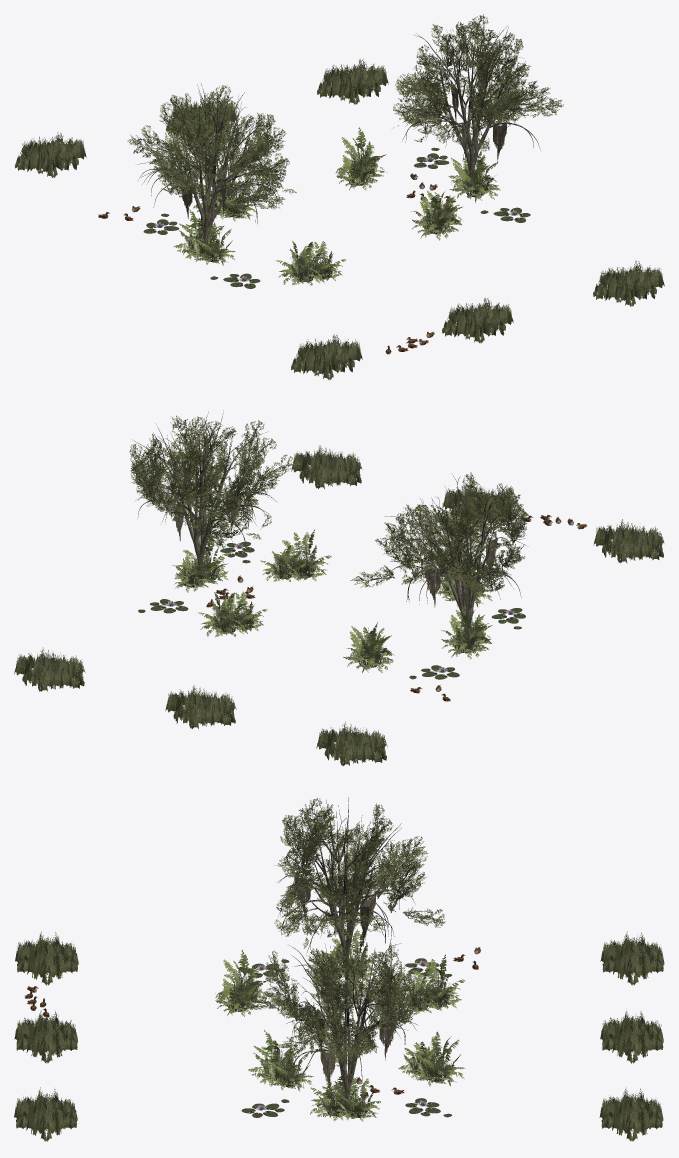
File: duck_plants.glb
The picture shows the model from 3 angles, top to bottom: view 1: azimuth 30°, elevation 25°; view 2: azimuth 150°, elevation 25°; view 3: azimuth 270°, elevation 25°; orthographic projection. The views are drawn at different scales.
Visible parts, largest first — view 1: prop_static_18757.003, prop_static_18757.002, prop_static_63605.001, prop_static_63605.002, sapling2, sapling1, Reeds.003, Reeds.001, Reeds.002, Reeds.004, Reeds, Reeds.005; view 2: prop_static_18757.002, prop_static_18757.003, prop_static_63605.002, prop_static_63605.001, sapling1, sapling2, Reeds.004, Reeds.001, Reeds, Reeds.005, Reeds.002; view 3: prop_static_18757.003, prop_static_18757.002, prop_static_63605.002, prop_static_63605.001, sapling1, sapling2, Reeds, Reeds.001, Reeds.004, Reeds.005, Reeds.003, Reeds.002.
Part boxes in pixels (box(x1,y1,x2,y2)): prop_static_18757.003: box(127, 85, 296, 209); prop_static_18757.002: box(393, 15, 563, 151); prop_static_63605.001: box(291, 260, 664, 380); prop_static_63605.002: box(14, 59, 388, 177); sapling2: box(399, 14, 544, 190); sapling1: box(137, 83, 279, 252); Reeds.003: box(275, 240, 346, 285); Reeds.001: box(335, 127, 387, 190); Reeds.002: box(173, 208, 235, 265); Reeds.004: box(411, 190, 462, 240); Reeds: box(448, 150, 500, 202); Reeds.005: box(193, 172, 256, 221); prop_static_18757.002: box(129, 415, 301, 548); prop_static_18757.003: box(350, 472, 528, 596); prop_static_63605.002: box(14, 647, 387, 765); prop_static_63605.001: box(291, 445, 664, 563); sapling1: box(385, 474, 528, 647); sapling2: box(132, 410, 276, 581); Reeds.004: box(260, 530, 331, 581); Reeds.001: box(197, 591, 267, 637); Reeds: box(172, 534, 229, 592); Reeds.005: box(343, 622, 394, 672); Reeds.002: box(441, 609, 492, 659); prop_static_18757.003: box(274, 798, 445, 948); prop_static_18757.002: box(234, 943, 419, 1066); prop_static_63605.002: box(599, 931, 664, 1141); prop_static_63605.001: box(14, 931, 78, 1141); sapling1: box(274, 797, 414, 968); sapling2: box(286, 935, 418, 1112); Reeds: box(310, 1069, 380, 1121); Reeds.001: box(398, 1031, 465, 1086); Reeds.004: box(248, 1030, 313, 1091); Reeds.005: box(401, 954, 465, 1015); Reeds.003: box(215, 950, 269, 1016); Reeds.002: box(311, 929, 382, 982).
Bounding box in the file's own units: 14.21 × 5.77 × 19.25.
Materials: 7 (7 with a texture image).
